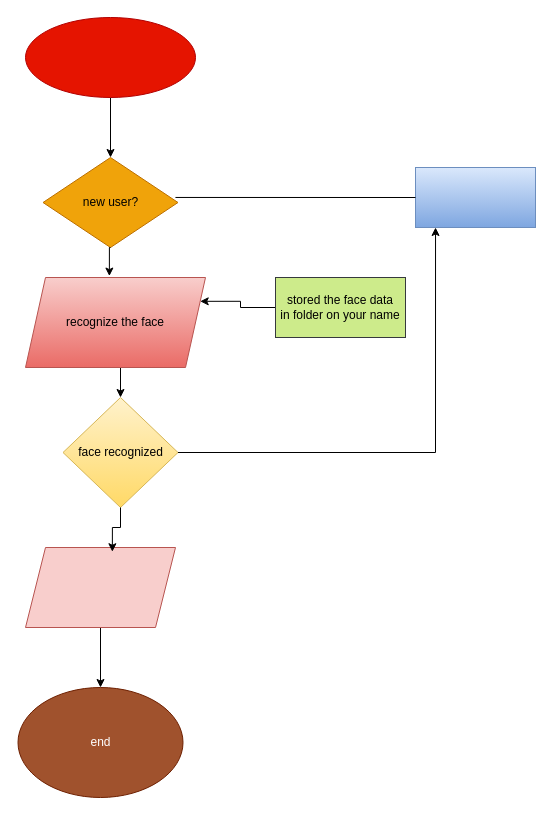
This 553x815 diagram has some shape labels left out. The shapes that lost their labels are listed below. From the top down, each one's centre as x and y in pixels, then its label:
pixel 110 57: start
pixel 475 197: give your photograph
pixel 100 587: stored in cs file with registration number& date.time or entry
